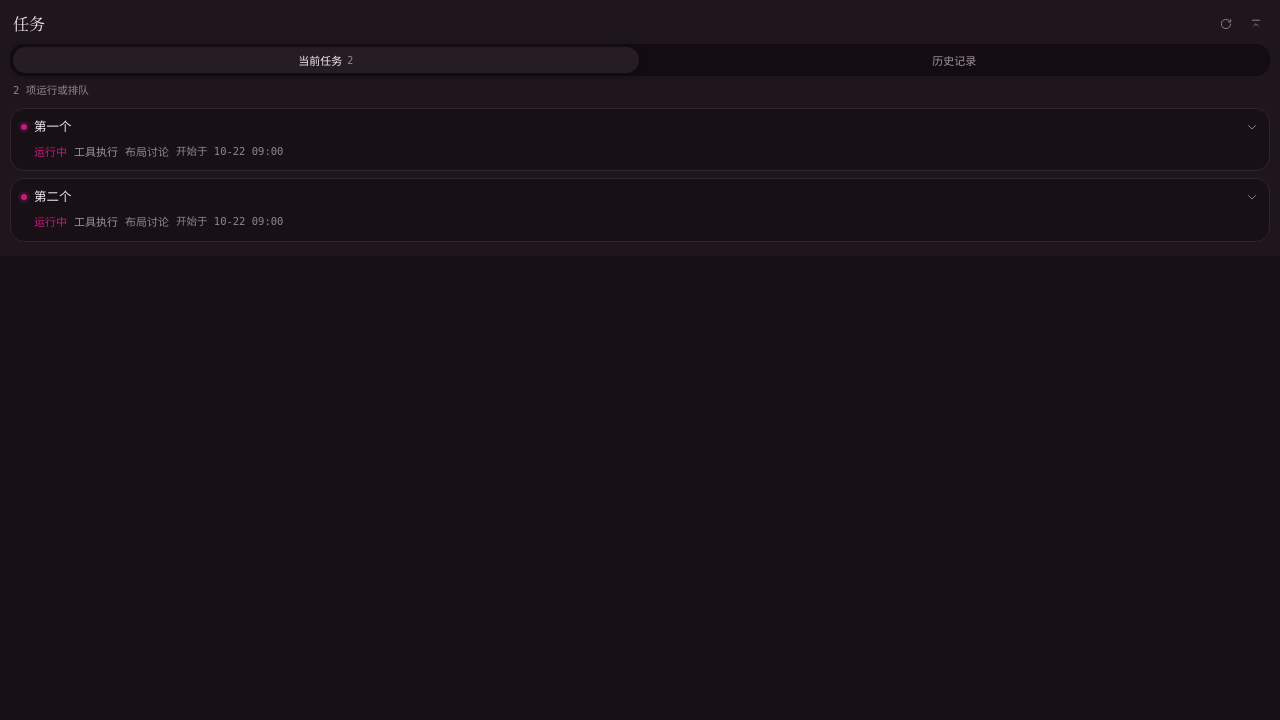
Test case: 排序、去重与展开 › 可以同时展开多个任务（不复用输入区「一次只展开一个」规则）
Click the button with class "task-trigger" showing "第一个": (53, 126) [34,118,1259,137]
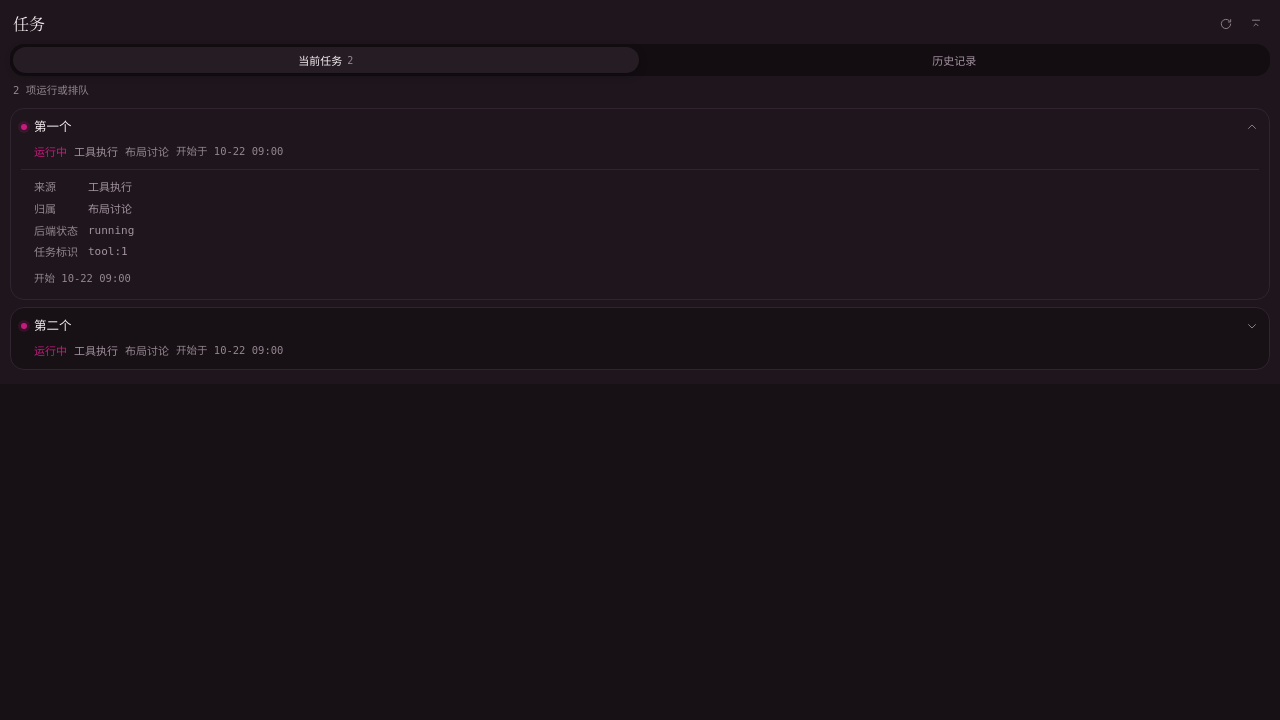
Click the button with class "task-trigger" showing "第二个": (53, 325) [34,317,1259,336]
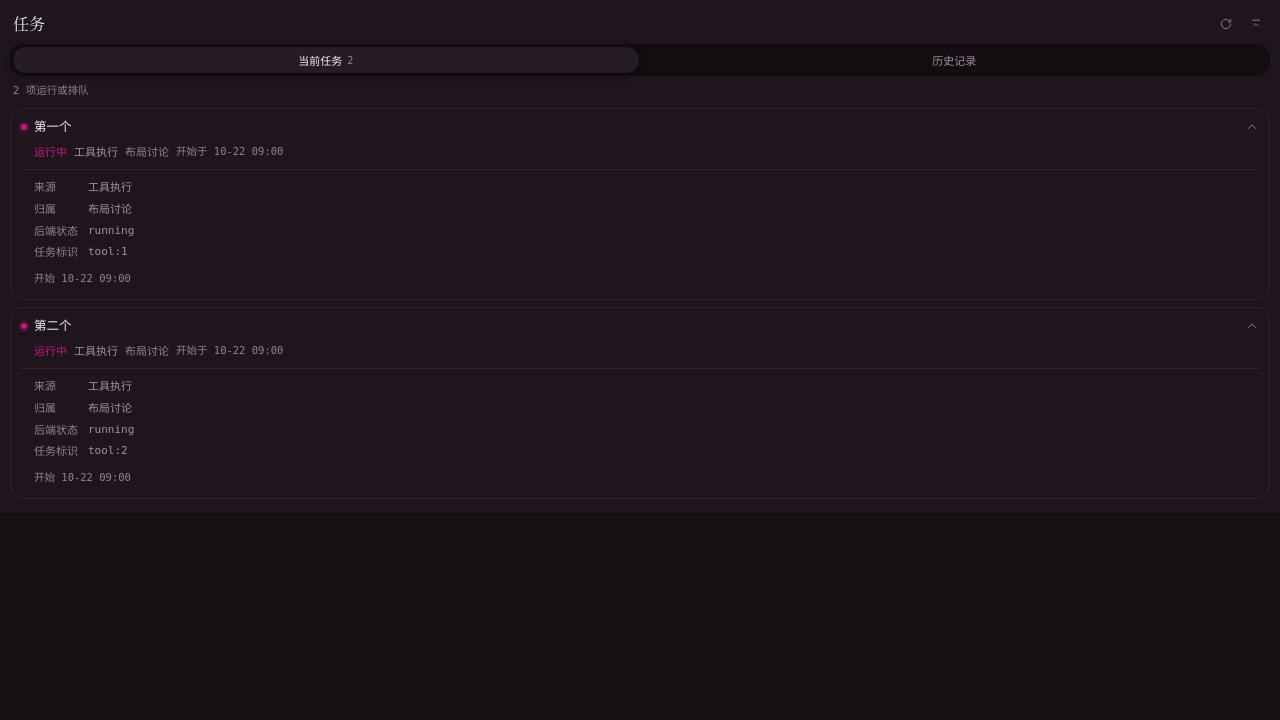
Now the number of elements with class "task-detail" is 2, box [21,169,1259,290]; [21,368,1259,489]
